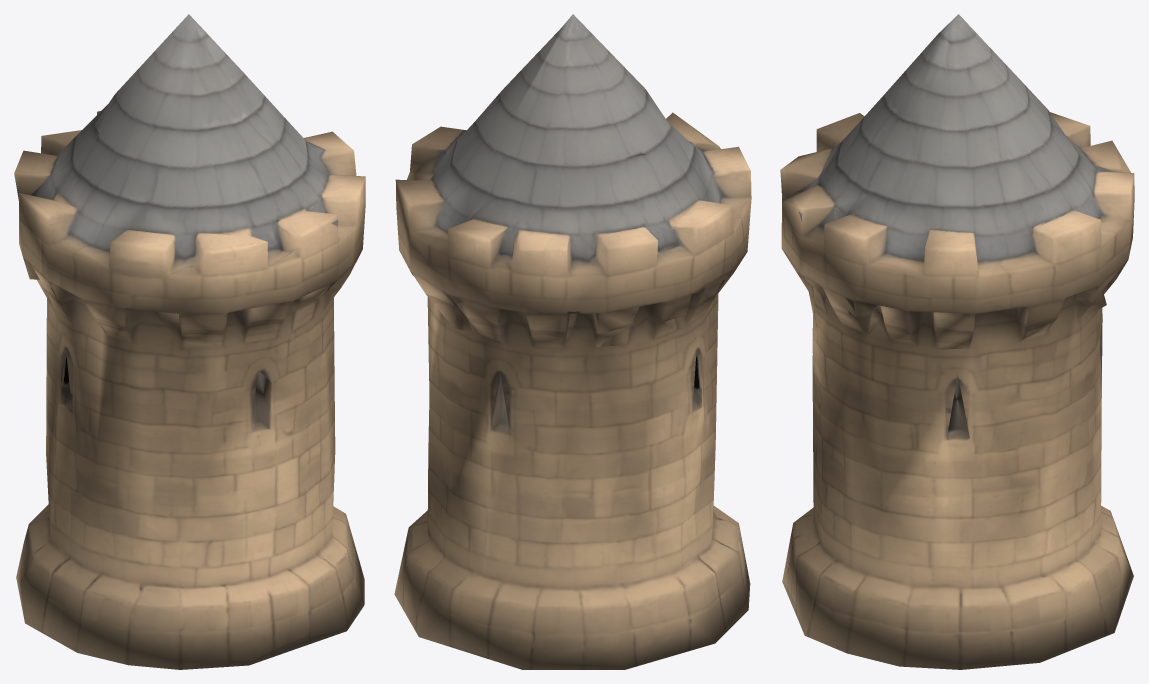
File: tower.glb
The picture shows the model from 3 angles, left to right: view 1: azimuth 30°, elevation 25°; view 2: azimuth 150°, elevation 25°; view 3: azimuth 270°, elevation 25°; orthographic projection.
Parts seen in each view (by area): view 1: geometry_0.001; view 2: geometry_0.001; view 3: geometry_0.001.
Part boxes in pixels (x1,y1,x2,y2): geometry_0.001: (14,14,365,669); geometry_0.001: (394,14,751,669); geometry_0.001: (780,14,1134,669).
Size of the model in its own units: 1.1 by 1.99 by 1.1.
1 material, 1 textured.
